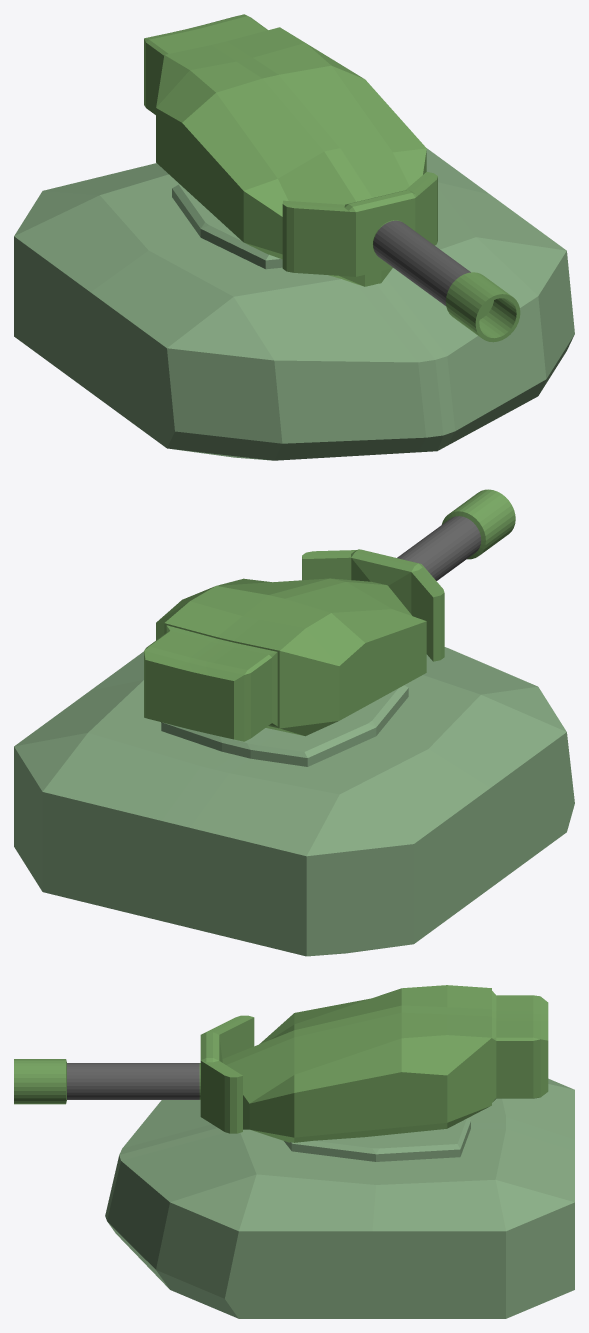
Rendered from Tank(lvl2) 1.fbx.
The picture shows the model from 3 angles, top to bottom: view 1: azimuth 30°, elevation 25°; view 2: azimuth 150°, elevation 25°; view 3: azimuth 270°, elevation 25°; orthographic projection. The views are drawn at different scales.
Parts seen in each view (by area): view 1: Cube, Cube.001; view 2: Cube, Cube.001; view 3: Cube, Cube.001.
Part boxes in pixels (x1,y1,x2,y2): Cube: (14,148,574,460); Cube.001: (144,14,520,342); Cube: (14,647,574,956); Cube.001: (144,489,515,741); Cube: (105,1078,574,1318); Cube.001: (14,985,548,1142).
Size of the model in its own units: 154 by 103 by 213.
